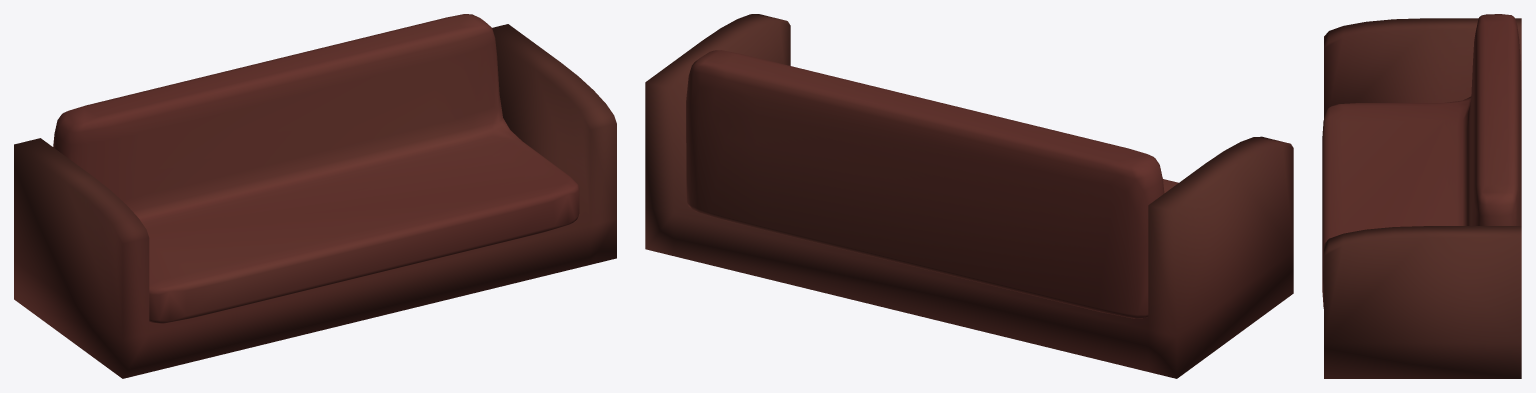
File: Coach.fbx
3 views of the same model, side by side, from view 1: azimuth 30°, elevation 25°; view 2: azimuth 150°, elevation 25°; view 3: azimuth 270°, elevation 25° (orthographic). The views are drawn at different scales.
Parts seen in each view (by area): view 1: Cube.010; view 2: Cube.010; view 3: Cube.010.
Boxes of the visible parts, bbox=[...] form: Cube.010: bbox=[14, 14, 616, 378]; Cube.010: bbox=[645, 14, 1293, 378]; Cube.010: bbox=[1322, 14, 1521, 378].
Bounding box in the file's own units: 24.42 × 63.58 × 22.4.
